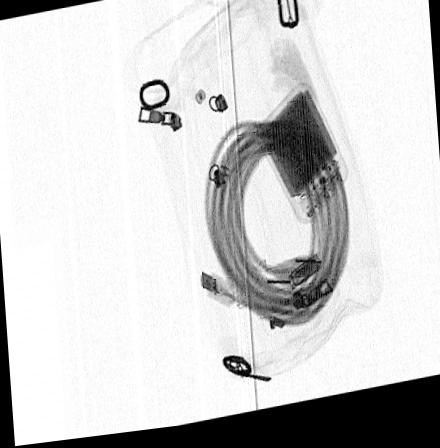Powerbank: (256, 89, 350, 230)
